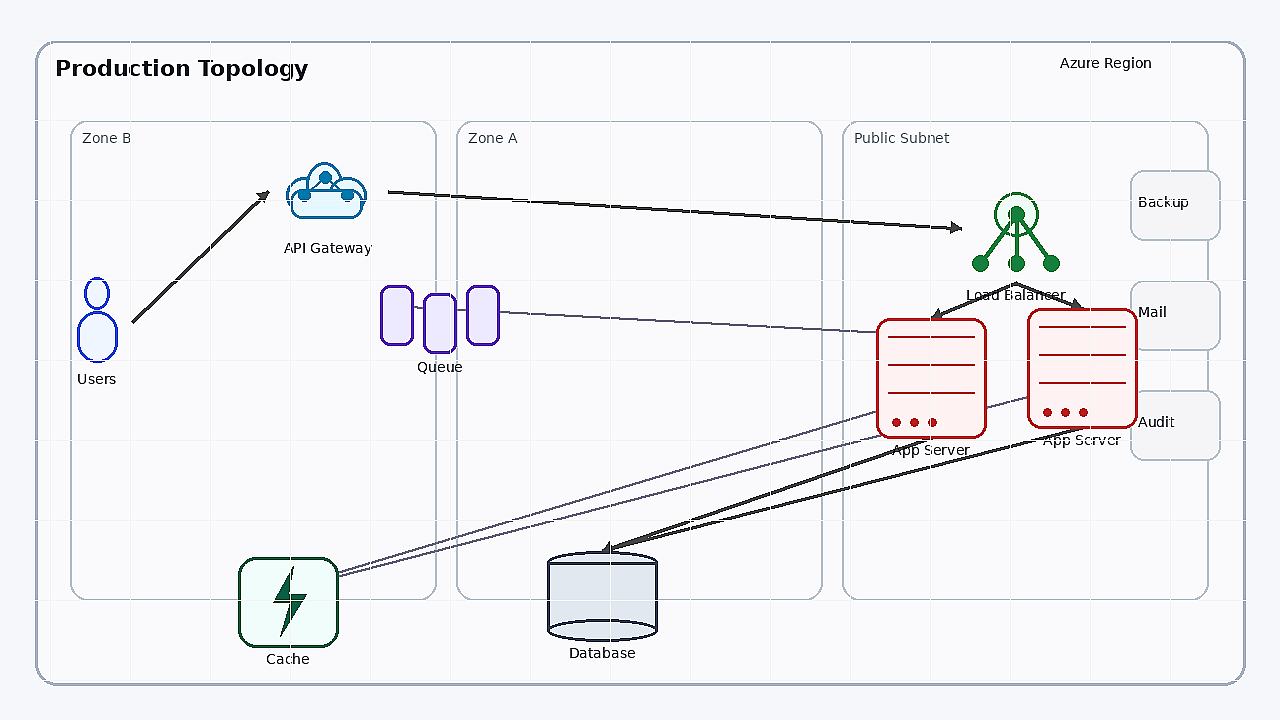API Gateway: (268, 146, 388, 236)
Application Server: (876, 318, 986, 438), (1027, 308, 1137, 428)
Cache: (238, 557, 338, 647)
Database: (547, 551, 657, 641)
Load Balancer: (961, 173, 1071, 283)
Message Queue: (380, 285, 500, 355)
User: (62, 277, 132, 367)
